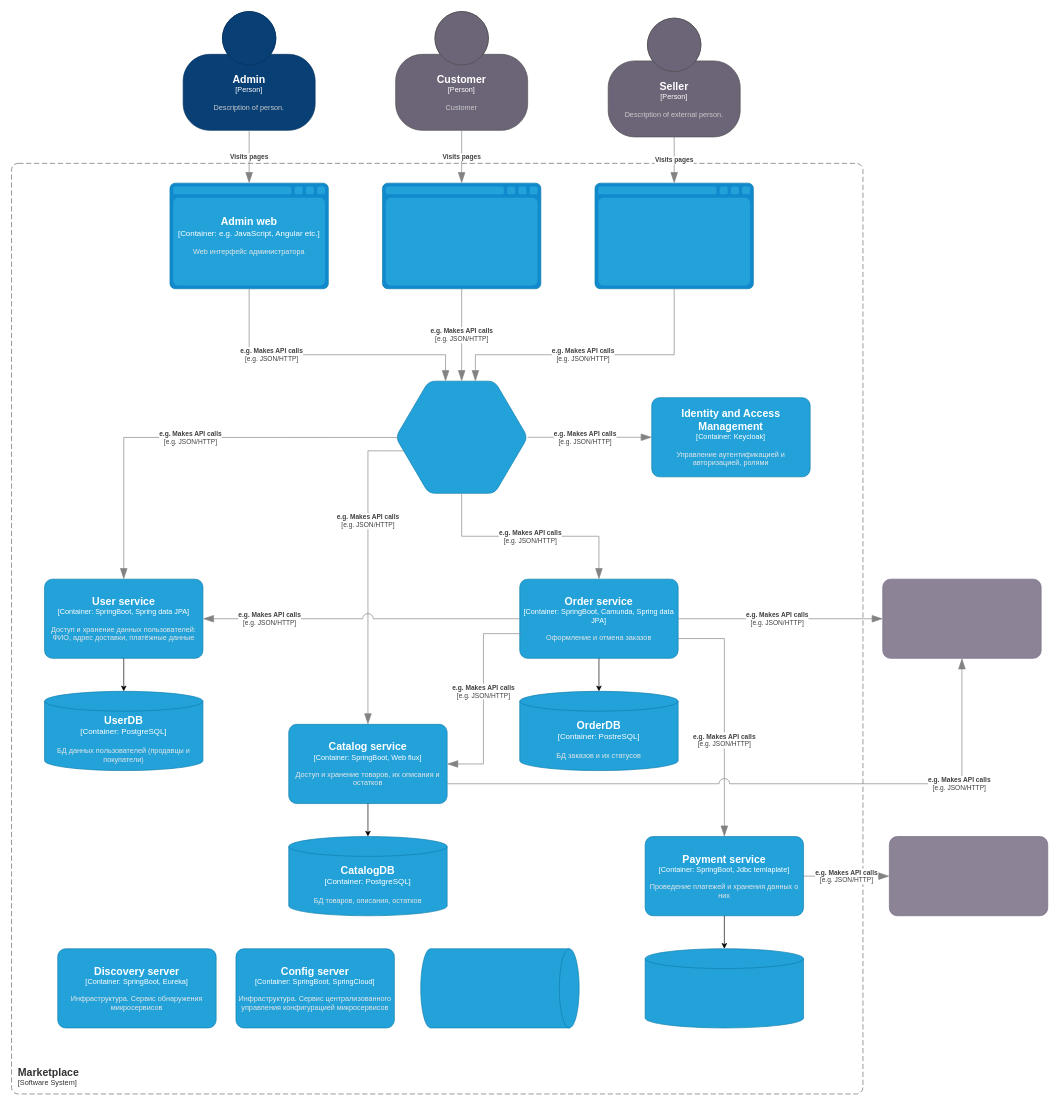
Image size: 1059x1106. Some labels were removed from this diagram. The box of each missing label's shape, as (x1, y1, x2, y2) in pixels:
API Gateway [Container: Spring Cloud] Точка входа запросов в приложение: (395, 380, 528, 493)
Bank system [Software System] Система проведения платежей: (889, 836, 1048, 916)
Customer web [Container: e.g. JavaScript, Angular etc.] Web интерфейс покупателя: (382, 182, 541, 289)
Delivery company [Software System] Система доставки товаров: (882, 578, 1041, 658)
Message bus [Container: Apache Kafka] Асинхронный обмен сообщениями: (420, 948, 579, 1028)
PaymentDB [Container: PostreSQL] БД платежей и балансов: (644, 948, 804, 1028)
Seller web [Container: e.g. JavaScript, Angular etc.] Web интерфейс продавца: (594, 182, 753, 289)
